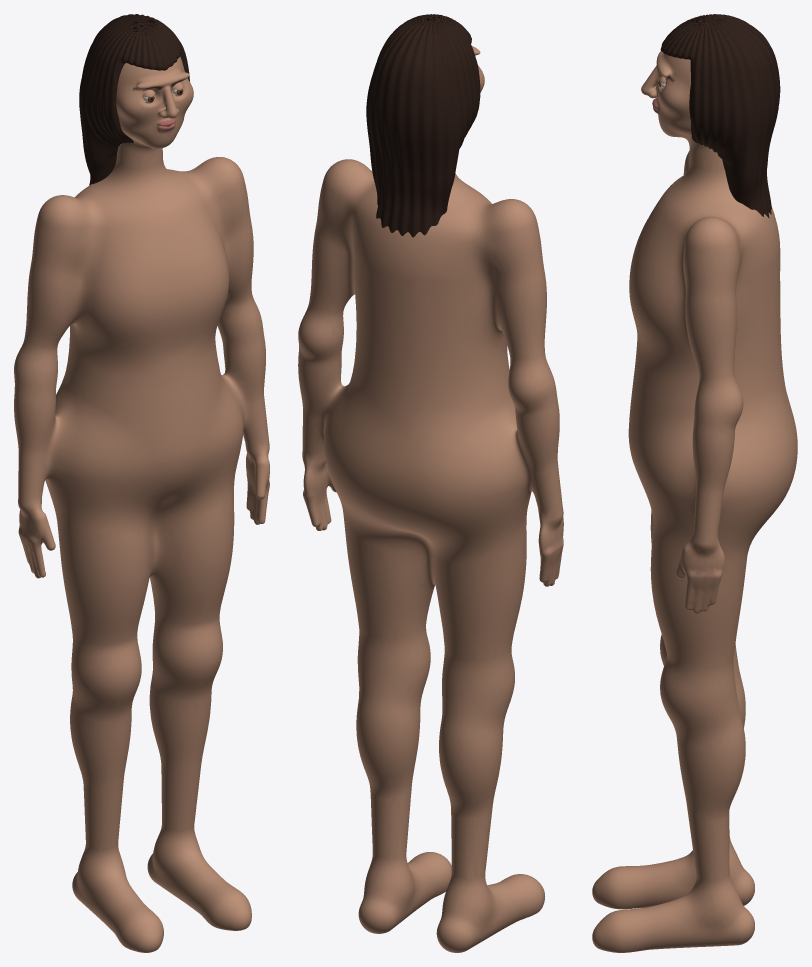
Rendered from body-female.glb.
The picture shows the model from 3 angles, left to right: view 1: azimuth 30°, elevation 25°; view 2: azimuth 150°, elevation 25°; view 3: azimuth 270°, elevation 25°; orthographic projection. The views are drawn at different scales.
Visible parts, largest first — view 1: body-female, hair; view 2: body-female, hair; view 3: body-female, hair.
Boxes of the visible parts, x1,y1,x2,y2 form: body-female: [14, 56, 269, 952]; hair: [79, 14, 189, 185]; body-female: [298, 46, 563, 952]; hair: [366, 14, 480, 237]; body-female: [592, 51, 797, 952]; hair: [660, 14, 780, 217].
Bounding box in the file's own units: 0.5016 × 1.7 × 0.3494.
